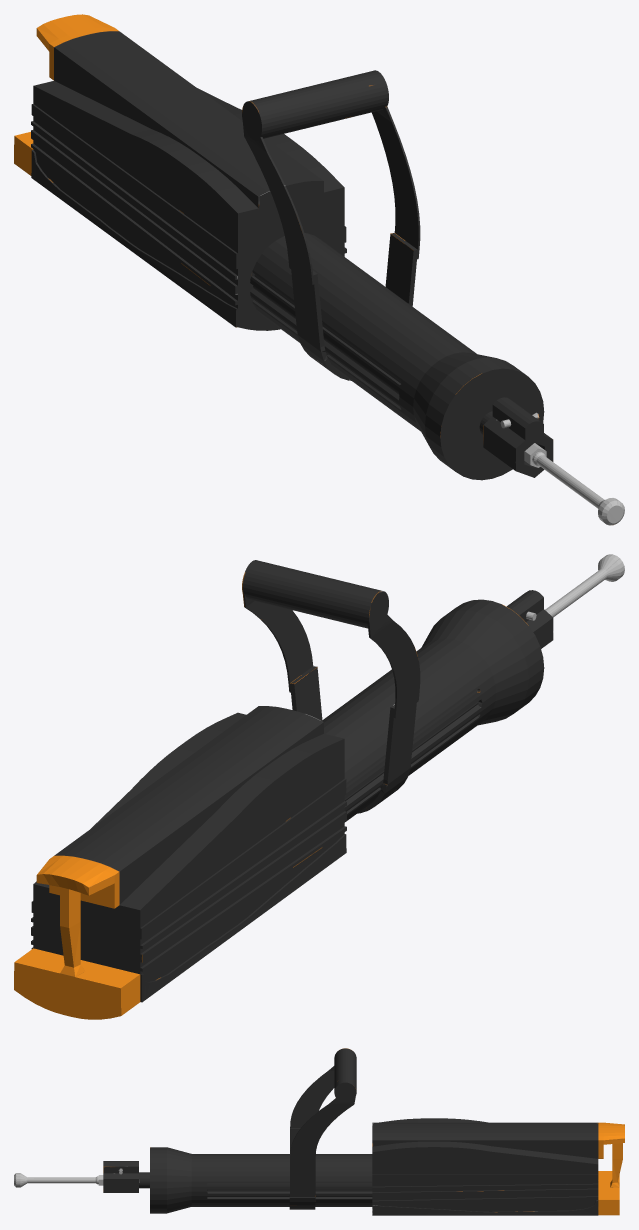
File: drill_heavy.obj
3 views of the same model, one above another, from view 1: azimuth 30°, elevation 25°; view 2: azimuth 150°, elevation 25°; view 3: azimuth 270°, elevation 25° (orthographic). The views are drawn at different scales.
Visible parts, largest first — view 1: Cube; view 2: Cube; view 3: Cube.
Boxes of the visible parts, <box> form: Cube: <box>14,14,624,525</box>; Cube: <box>14,554,624,1019</box>; Cube: <box>14,1048,624,1215</box>.
Bounding box in the file's own units: 0.7646 × 1.51 × 5.76.
